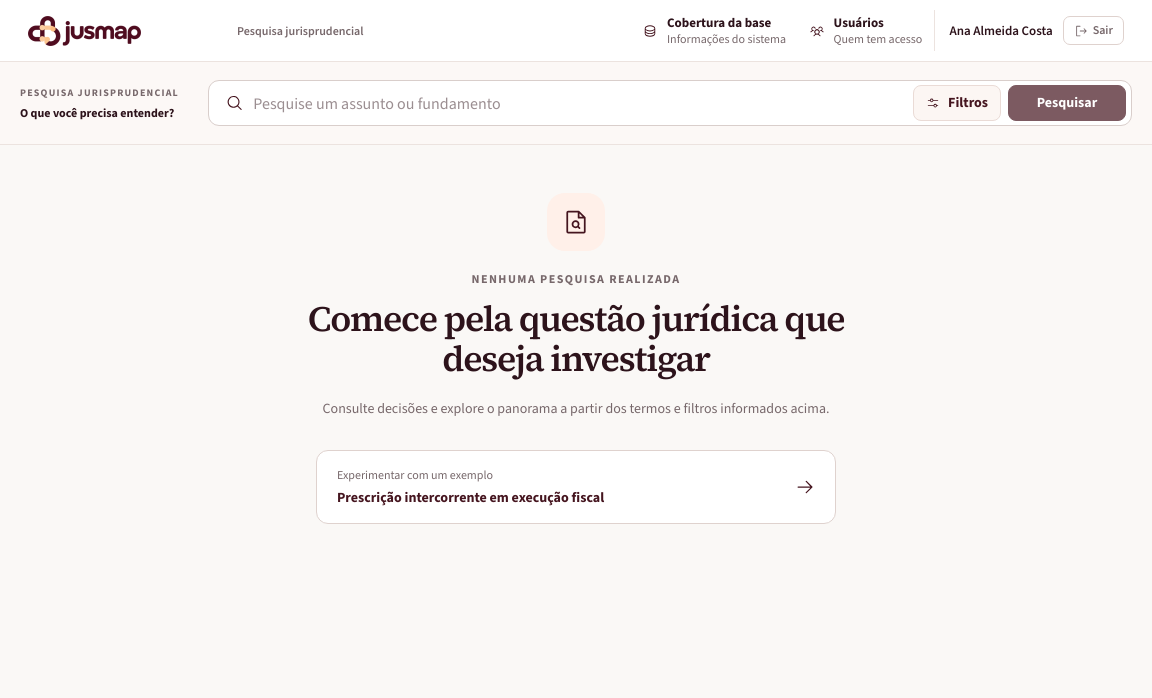
Test: the reordered results › are shown exactly as the API returned them, with the new total
Type "prescrição intercorrente em execução fiscal" into the search field named "Pesquisar decisões" at (578, 103), box [253, 85, 903, 121]
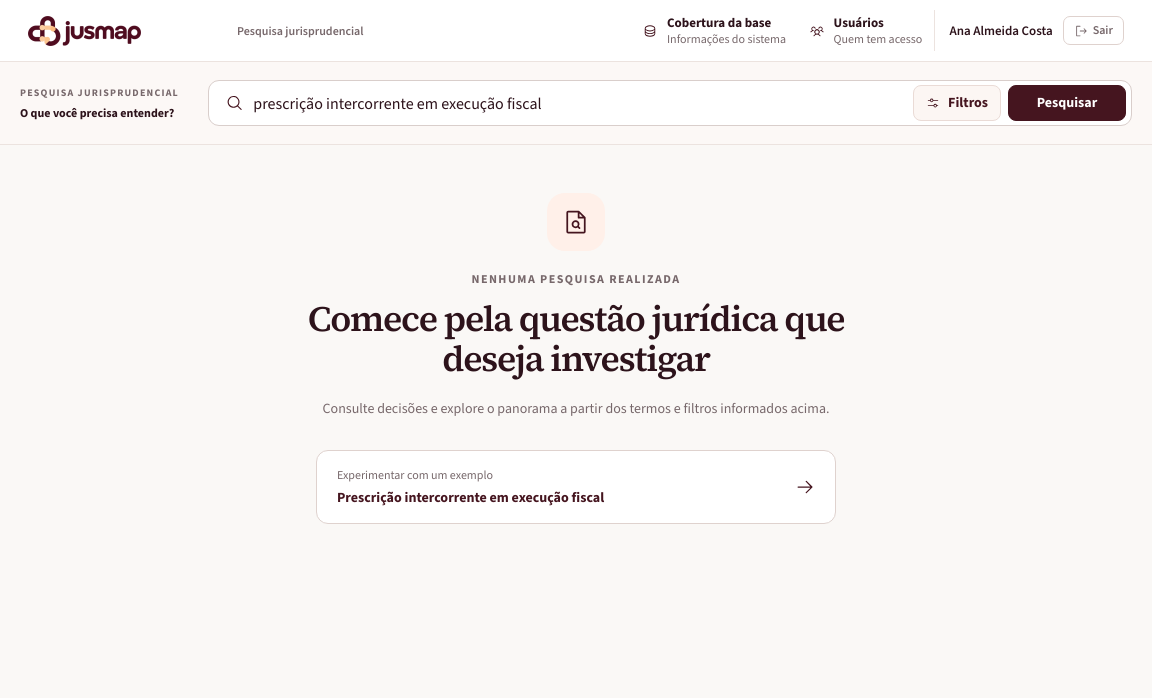
Click the button "Pesquisar" at (1067, 103), box [1008, 85, 1126, 121]
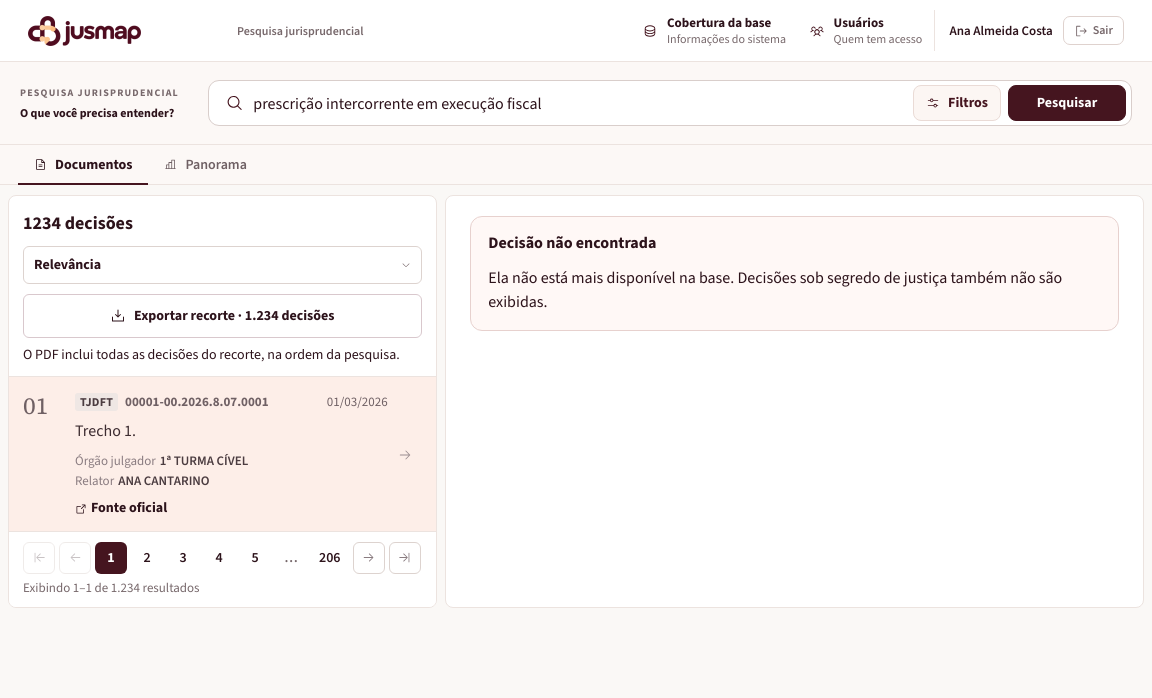
Select "Mais recentes" in the dropdown named "Ordenar por" at (222, 265), box [23, 246, 422, 284]
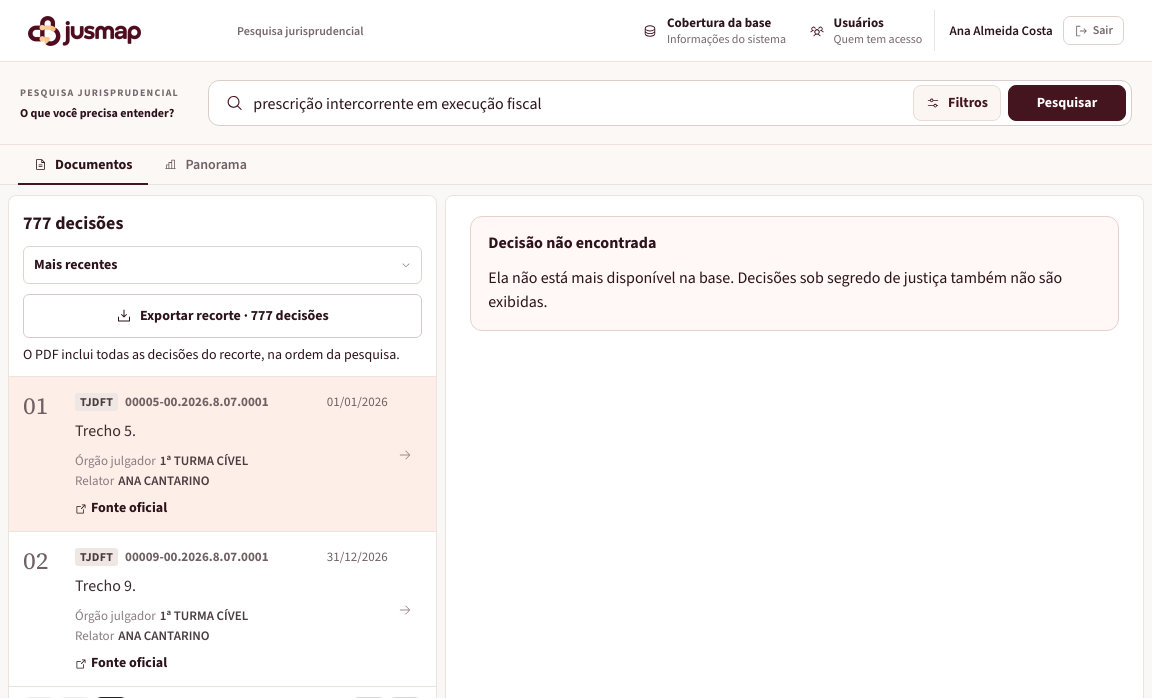
Expected: the text "777" is shown, [23, 211, 52, 235]
